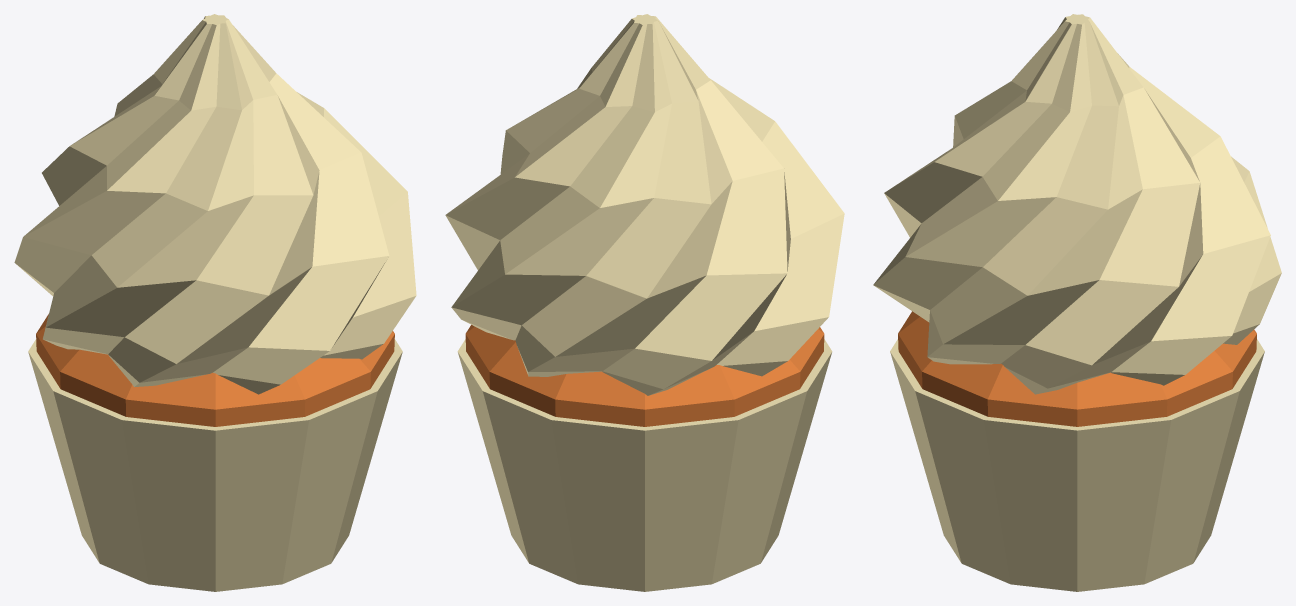
Rendered from CandylandCupcake_04.fbx.
3 views of the same model, side by side, from view 1: azimuth 30°, elevation 25°; view 2: azimuth 150°, elevation 25°; view 3: azimuth 270°, elevation 25° (orthographic).
Visible parts, largest first — view 1: CandylandCupcake_04; view 2: CandylandCupcake_04; view 3: CandylandCupcake_04.
Boxes of the visible parts, x1,y1,x2,y2 form: CandylandCupcake_04: [14, 14, 416, 591]; CandylandCupcake_04: [445, 14, 844, 591]; CandylandCupcake_04: [873, 14, 1281, 591].
Size of the model in its own units: 0.4944 by 0.6887 by 0.4944.
